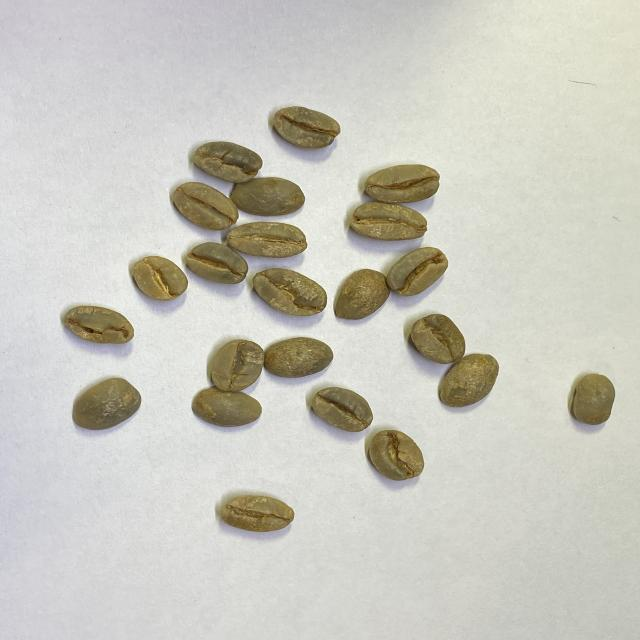bad: (251, 268, 327, 318), (62, 304, 136, 346), (192, 141, 264, 184), (388, 248, 448, 296), (368, 432, 425, 482), (221, 496, 295, 532)
good: (70, 376, 142, 431), (436, 352, 500, 408), (271, 105, 342, 153), (171, 181, 239, 230), (208, 338, 266, 394), (264, 334, 333, 380), (333, 268, 390, 323), (190, 387, 263, 429), (364, 164, 440, 204), (310, 386, 374, 433), (351, 203, 428, 242), (230, 177, 306, 216), (228, 222, 307, 258), (130, 254, 188, 302), (412, 313, 466, 364), (188, 242, 248, 284), (572, 372, 614, 424)
